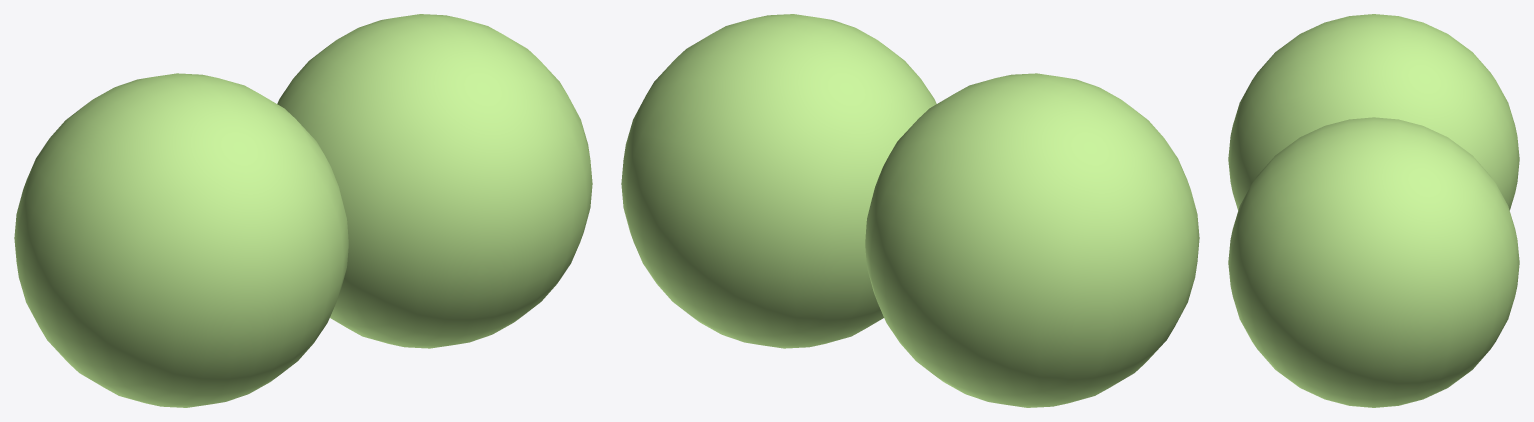
File: 09_F2_CKP.fbx
The picture shows the model from 3 angles, left to right: view 1: azimuth 30°, elevation 25°; view 2: azimuth 150°, elevation 25°; view 3: azimuth 270°, elevation 25°; orthographic projection. The views are drawn at different scales.
Parts seen in each view (by area): view 1: F.002, F.001; view 2: F.002, F.001; view 3: F.001, F.002.
Boxes of the visible parts, bbox=[...] form: F.002: bbox=[14, 73, 348, 407]; F.001: bbox=[277, 14, 592, 348]; F.002: bbox=[865, 73, 1199, 407]; F.001: bbox=[621, 14, 936, 348]; F.001: bbox=[1228, 117, 1519, 407]; F.002: bbox=[1228, 14, 1519, 210].
Size of the model in its own units: 313 by 170 by 170.
